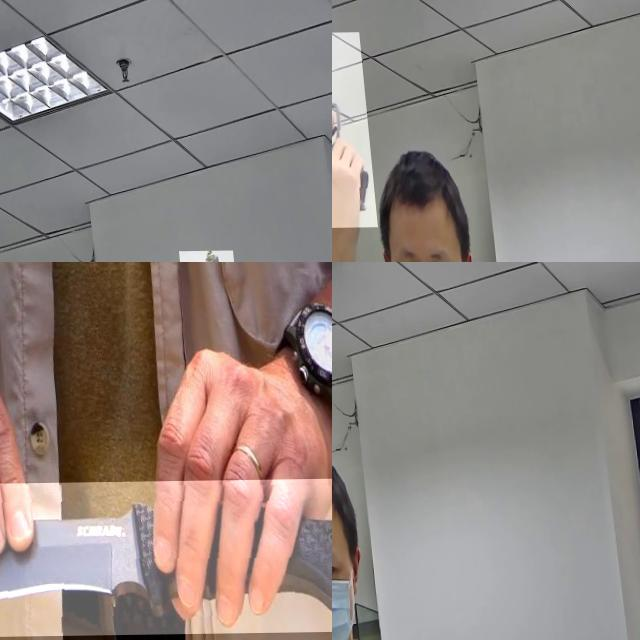-: (0, 480, 332, 638)
gun-knife-thesis - v11 Yolov5 augmented: (332, 32, 378, 228), (332, 434, 365, 566)
